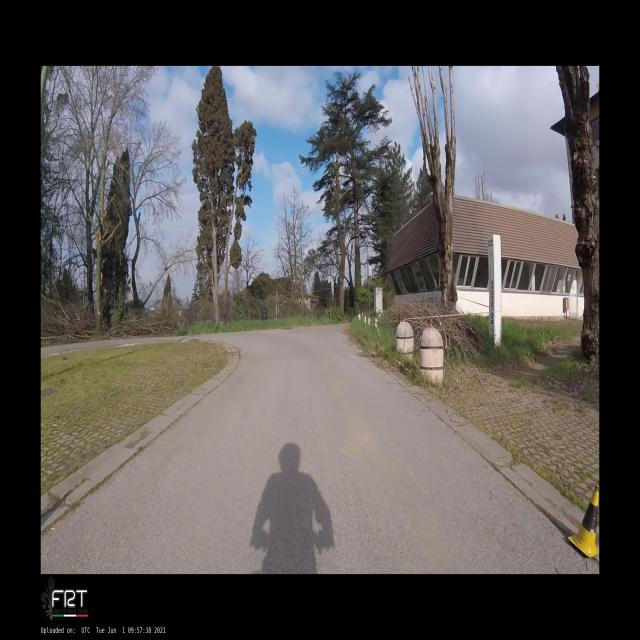yellow_cone: (568, 485, 599, 558)
